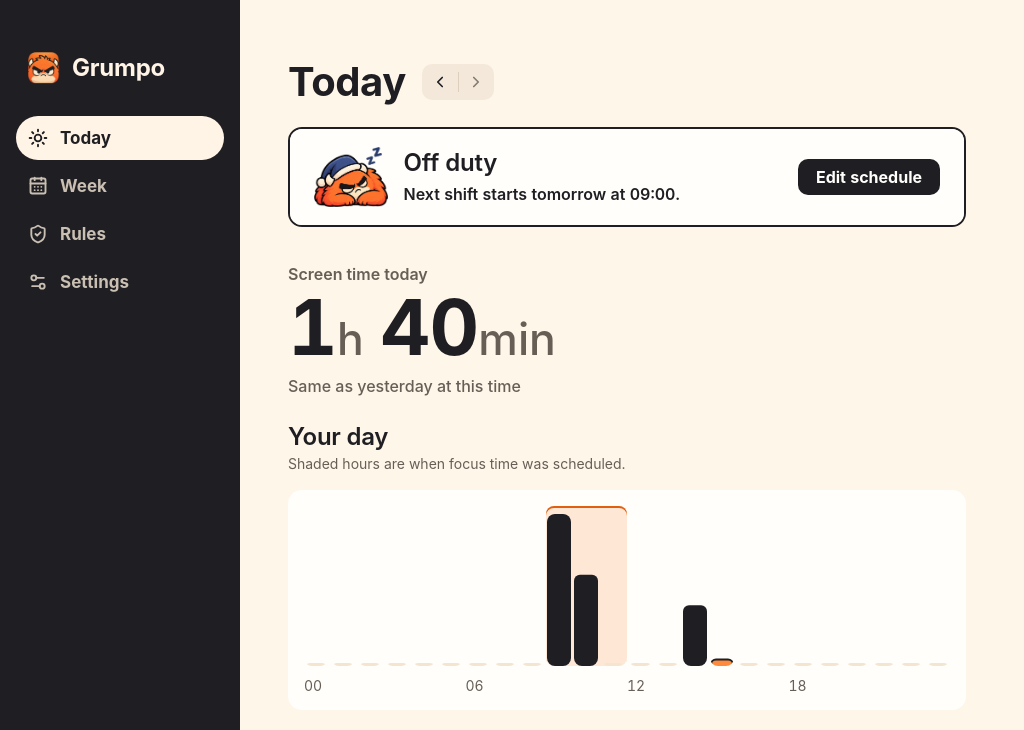
Test case: TodayScreen browsing days › steps to the previous day, shows its date and offers a way back
Click the button named "Previous day". click: (440, 82)
box: [422,64,458,100]
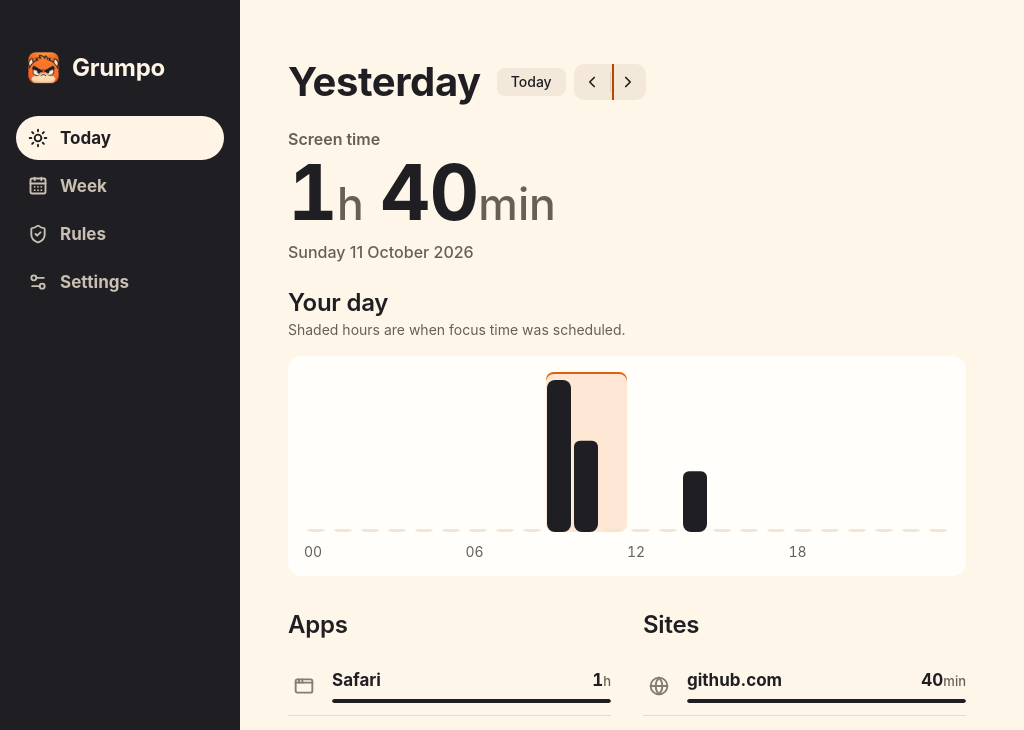
Result: the heading "Yesterday" is shown at [288,60,481,104]
Result: the text "Sunday 11 October 2026" is shown at [288,240,474,264]
Result: the heading "Off duty" is gone
